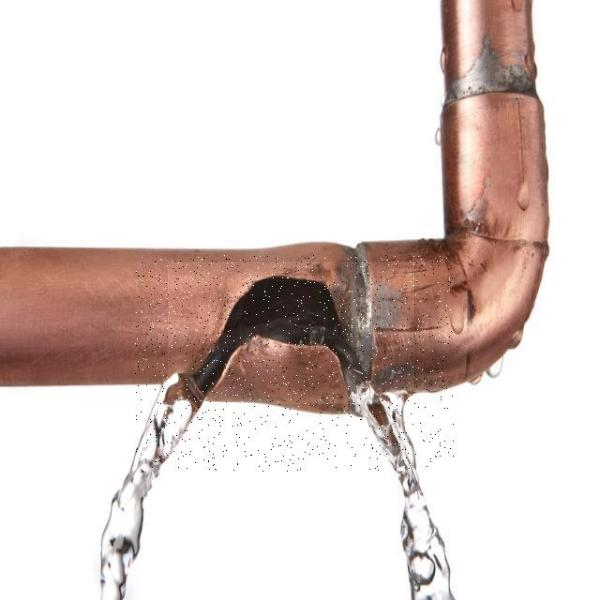water: (168, 262, 414, 404)
